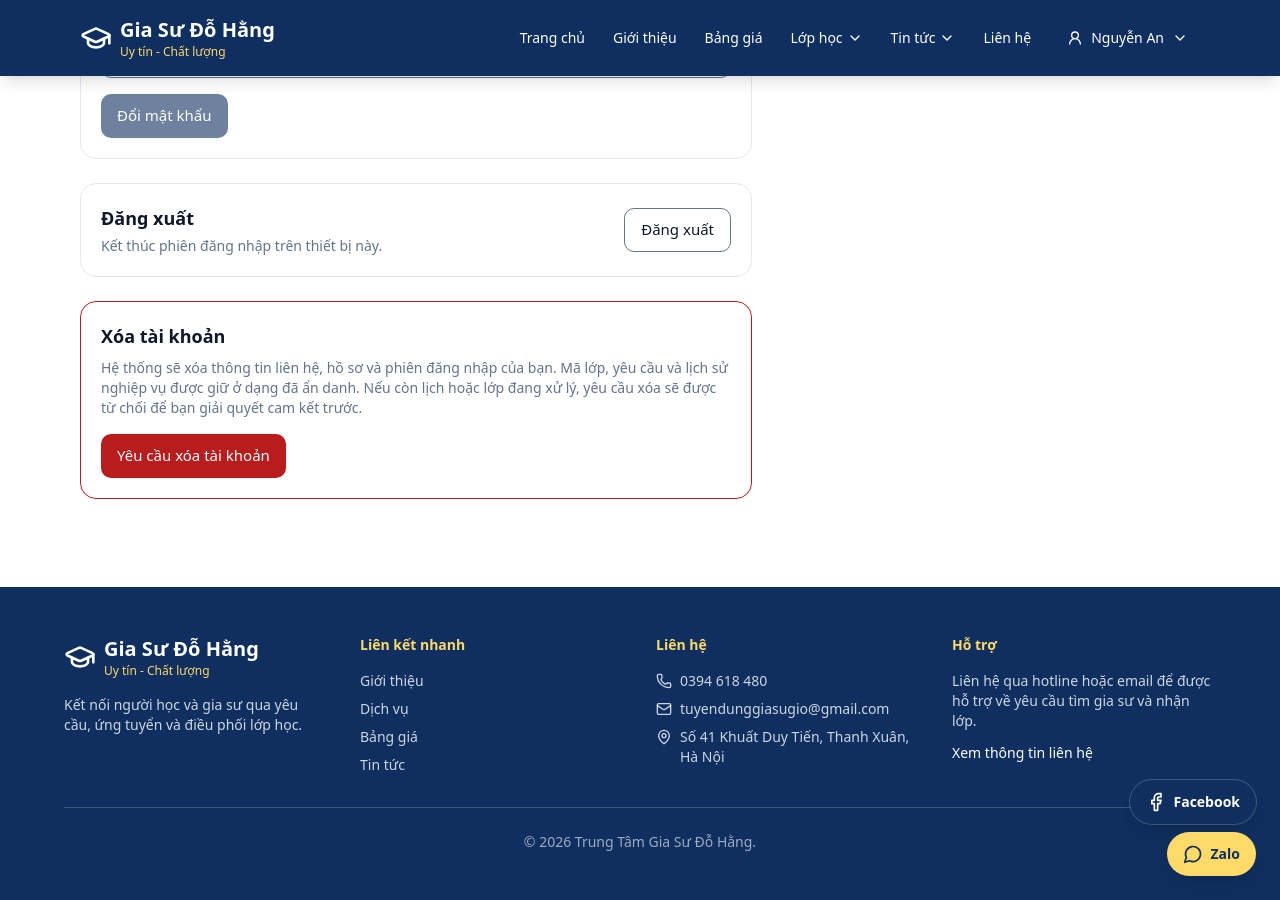
Test: AccountPage deletion › requires typed confirmation and keeps the account visible after an active-obligation 409
(page scrolled)
Step 1. Click the button "Yêu cầu xóa tài khoản" → [193, 456], box [101,434,286,478]
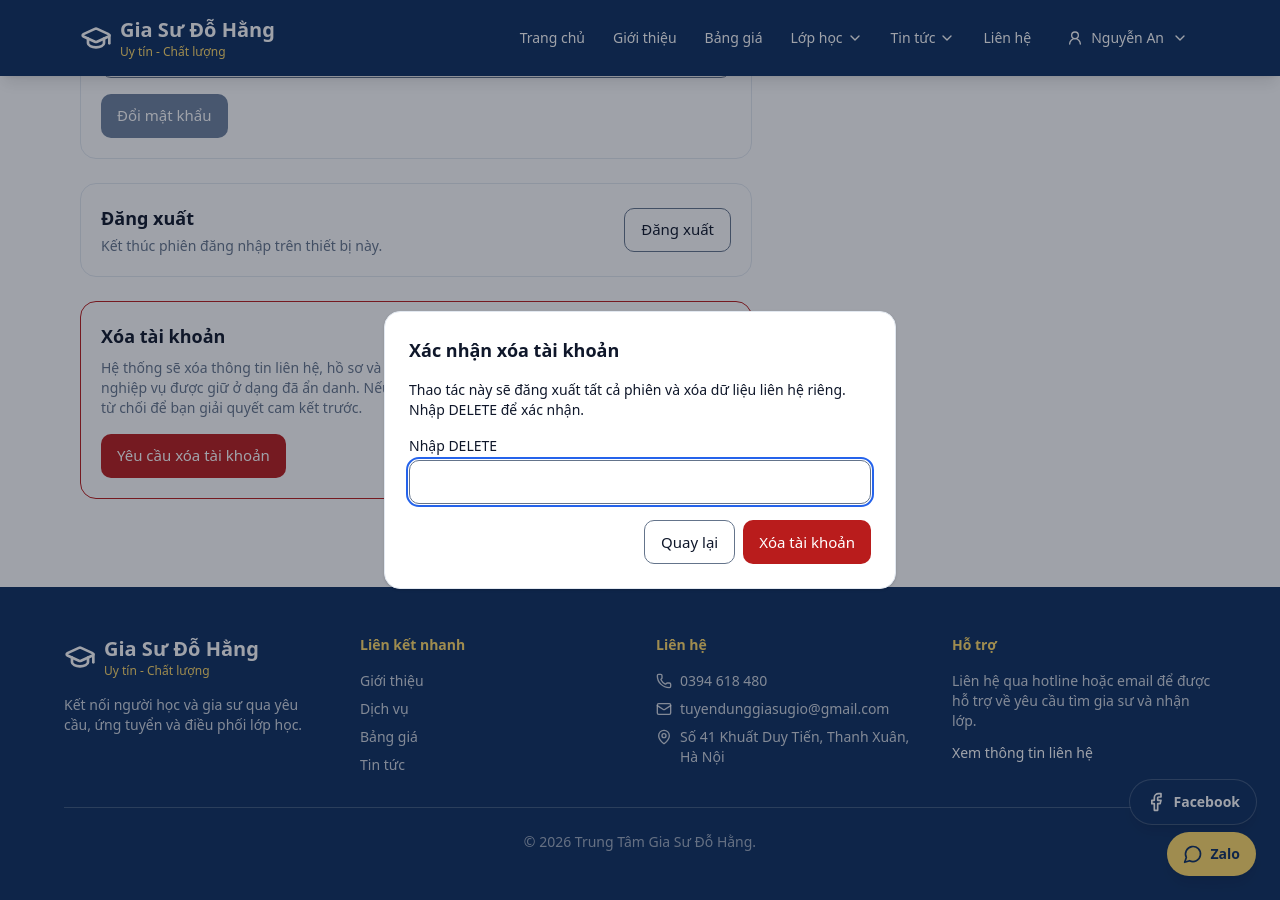
Step 2. Click the button "Xóa tài khoản" → [807, 542], box [743,520,871,564]
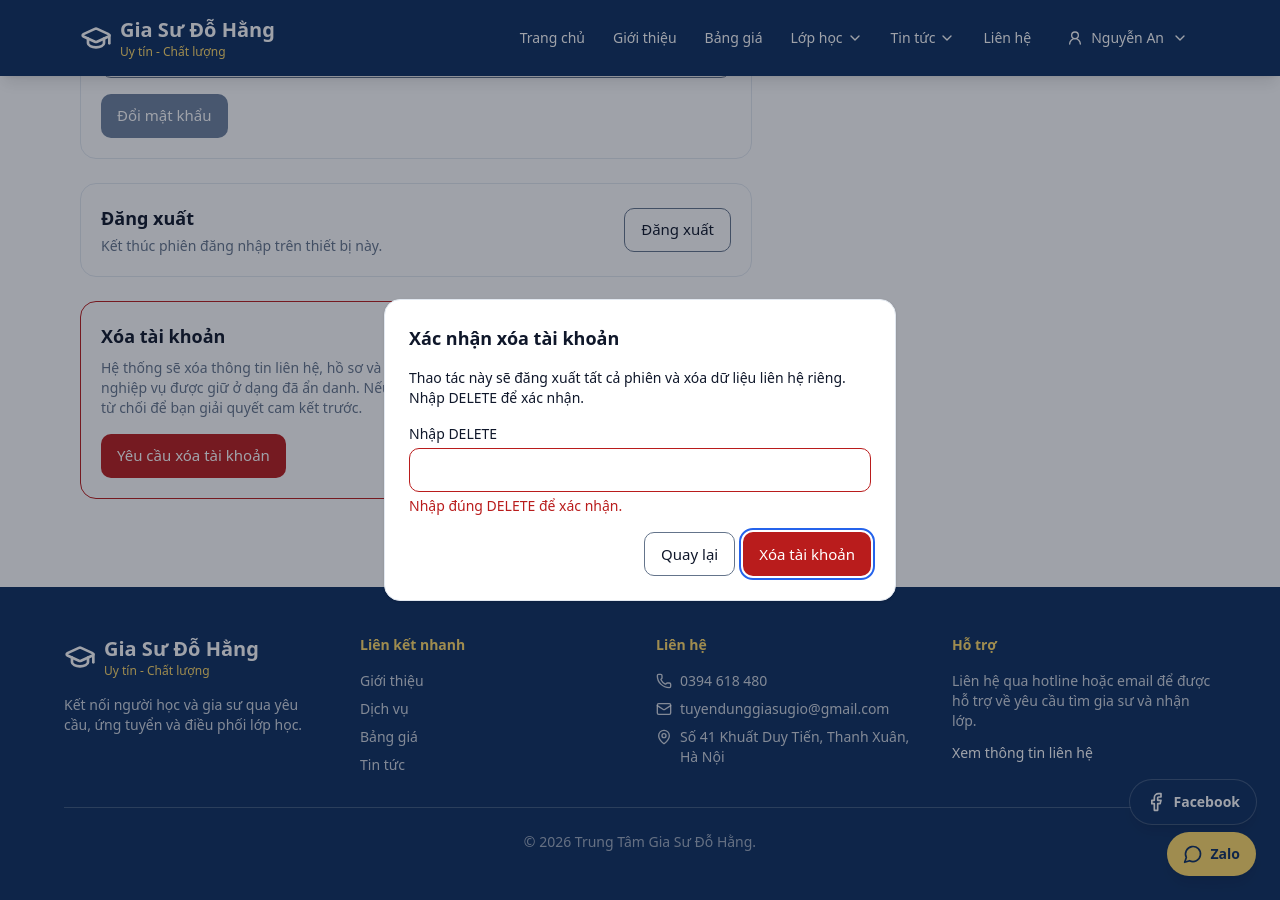
expect the text "Nhập đúng DELETE để xác nhận." is shown: met, box [409,496,622,515]
Step 3. Type "DELETE" into the field labelled "Nhập DELETE" → [640, 470], box [409,448,871,492]
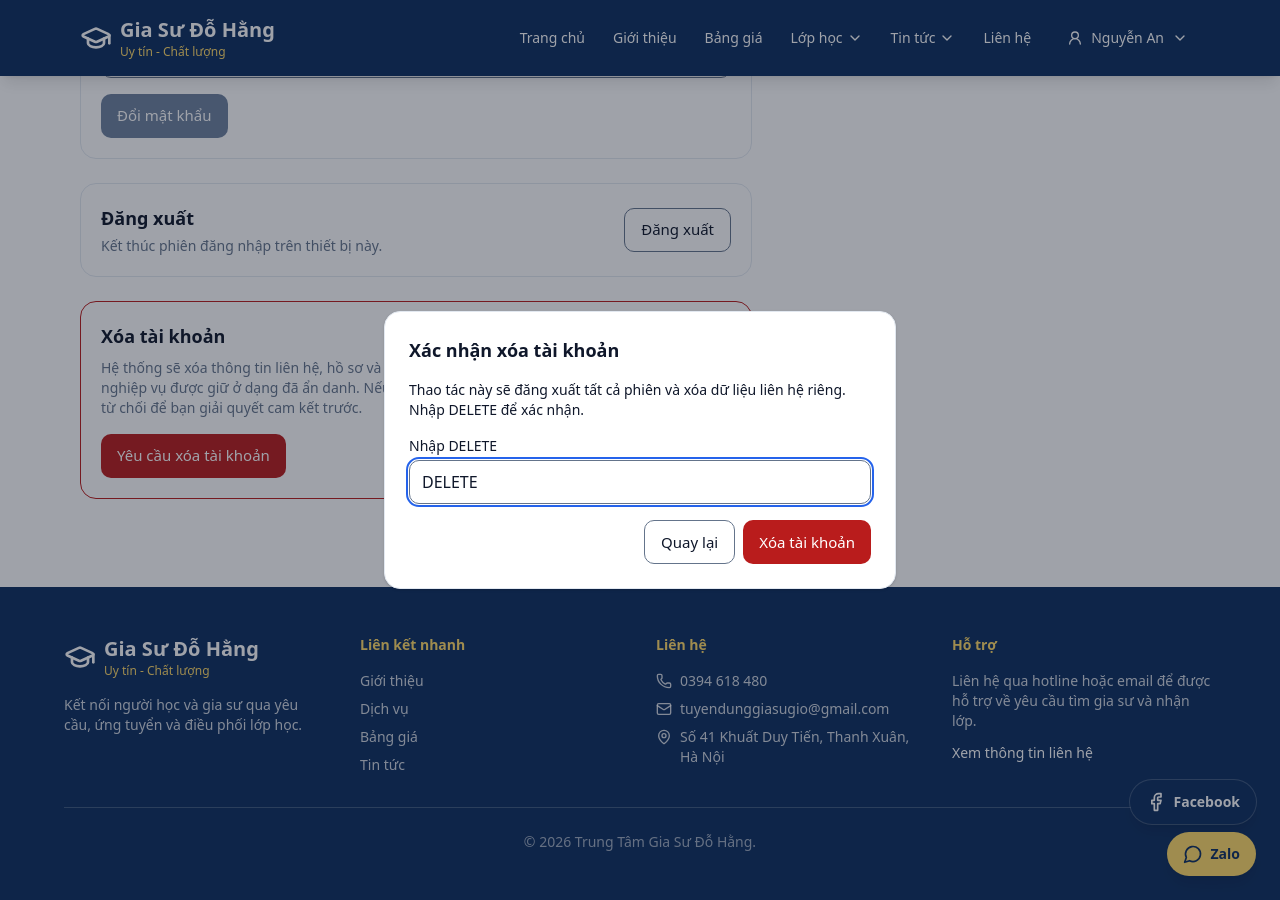
Step 4. Click the button "Xóa tài khoản" → [807, 542], box [743,520,871,564]
(page scrolled)
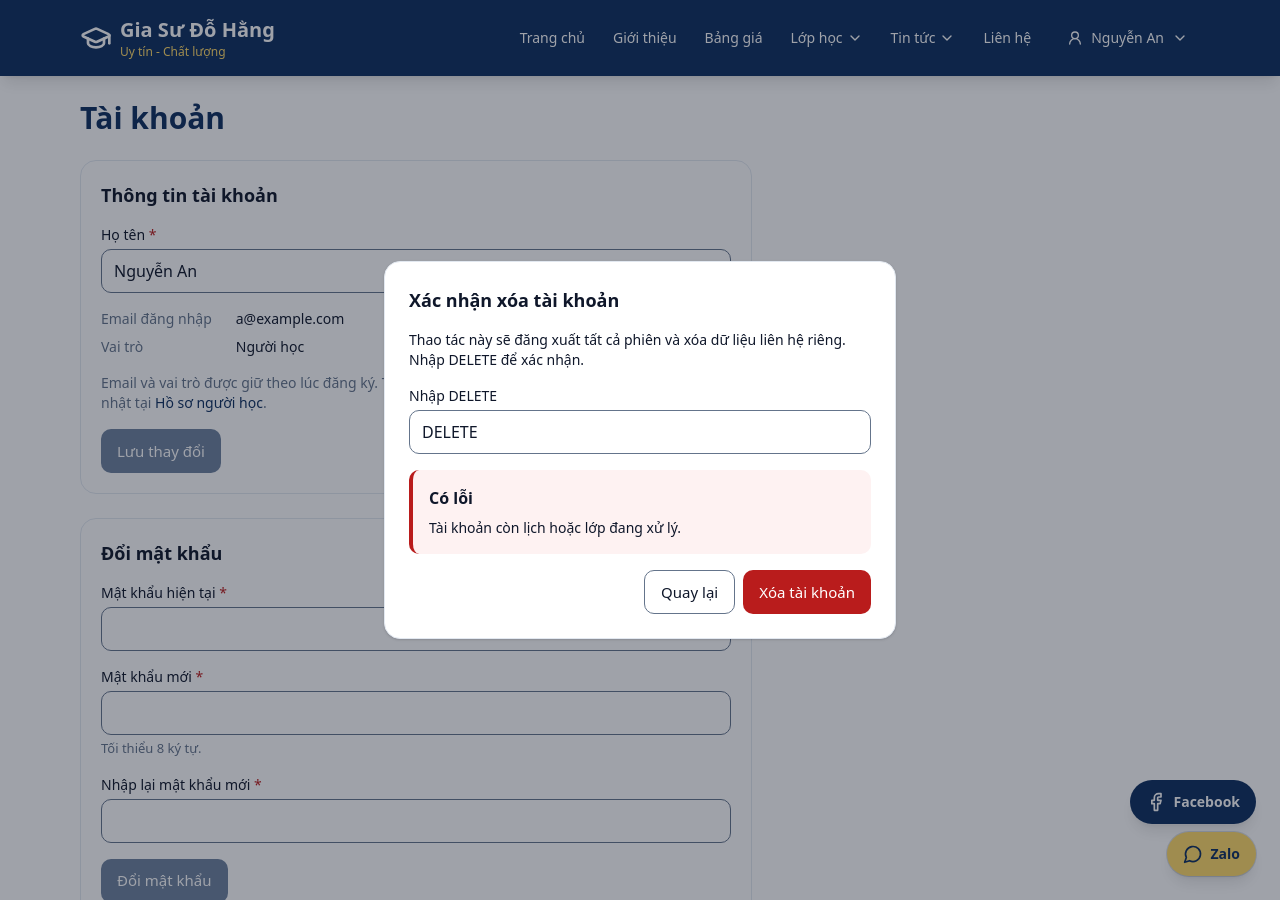
expect the field showing "Nguyễn An" is shown: met, box [101,249,731,293]
expect the text "Tài khoản còn lịch hoặc lớp đang xử lý." is shown 2 times: met
